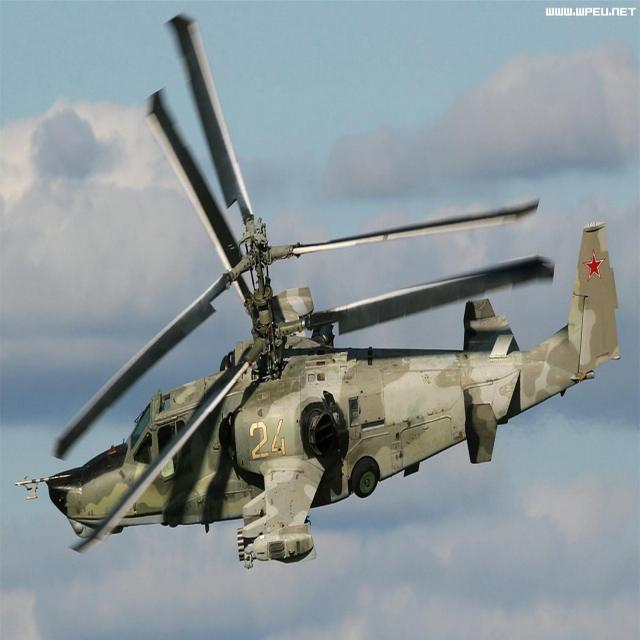MIL_HELO: (6, 6, 632, 570)
